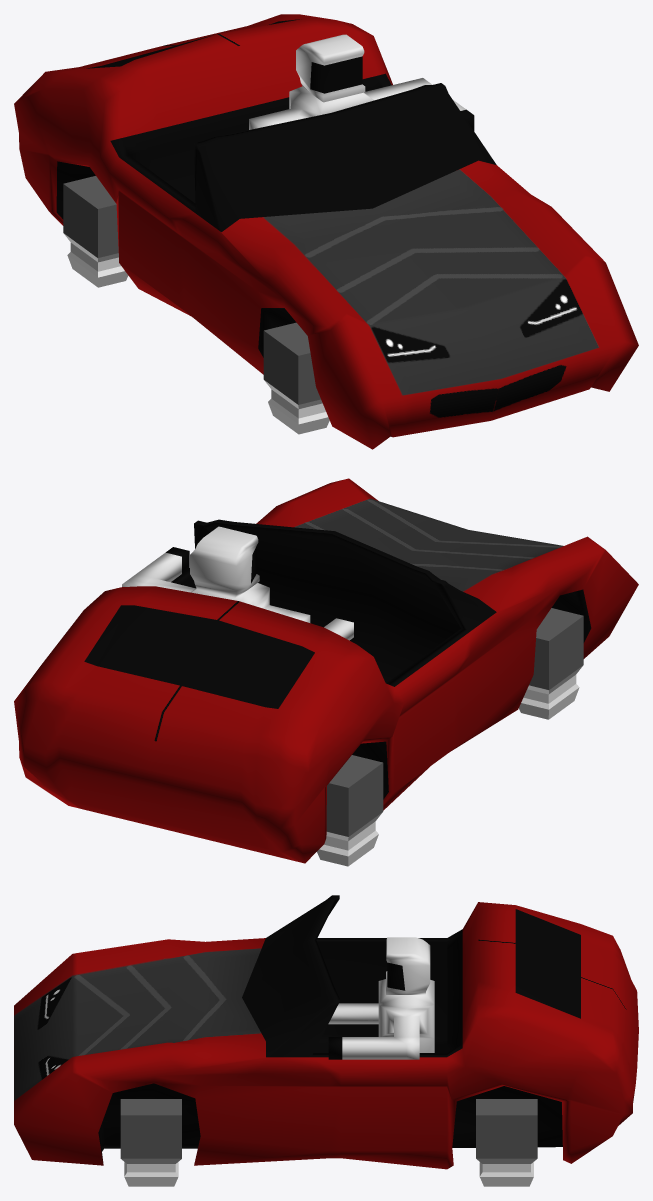
The model's file is spaceRoadster.fbx.
3 views of the same model, one above another, from view 1: azimuth 30°, elevation 25°; view 2: azimuth 150°, elevation 25°; view 3: azimuth 270°, elevation 25° (orthographic). The views are drawn at different scales.
Parts seen in each view (by area): view 1: pCube1, pCube2, pCube5, pCube6; view 2: pCube1, pCube2, pCube5, pCube6; view 3: pCube1, pCube2, pCube3, pCube4.
Part boxes in pixels (x1,y1,x2,y2): pCube1: [14, 14, 638, 449]; pCube2: [249, 34, 474, 131]; pCube5: [63, 176, 128, 287]; pCube6: [263, 322, 329, 434]; pCube1: [14, 478, 638, 863]; pCube2: [122, 526, 353, 640]; pCube5: [317, 755, 383, 866]; pCube6: [519, 608, 583, 719]; pCube1: [14, 895, 638, 1169]; pCube2: [328, 937, 434, 1059]; pCube3: [120, 1099, 181, 1186]; pCube4: [476, 1099, 537, 1186].
Bounding box in the file's own units: 2.16 × 1.6 × 4.44.
7 materials, 2 textured.
